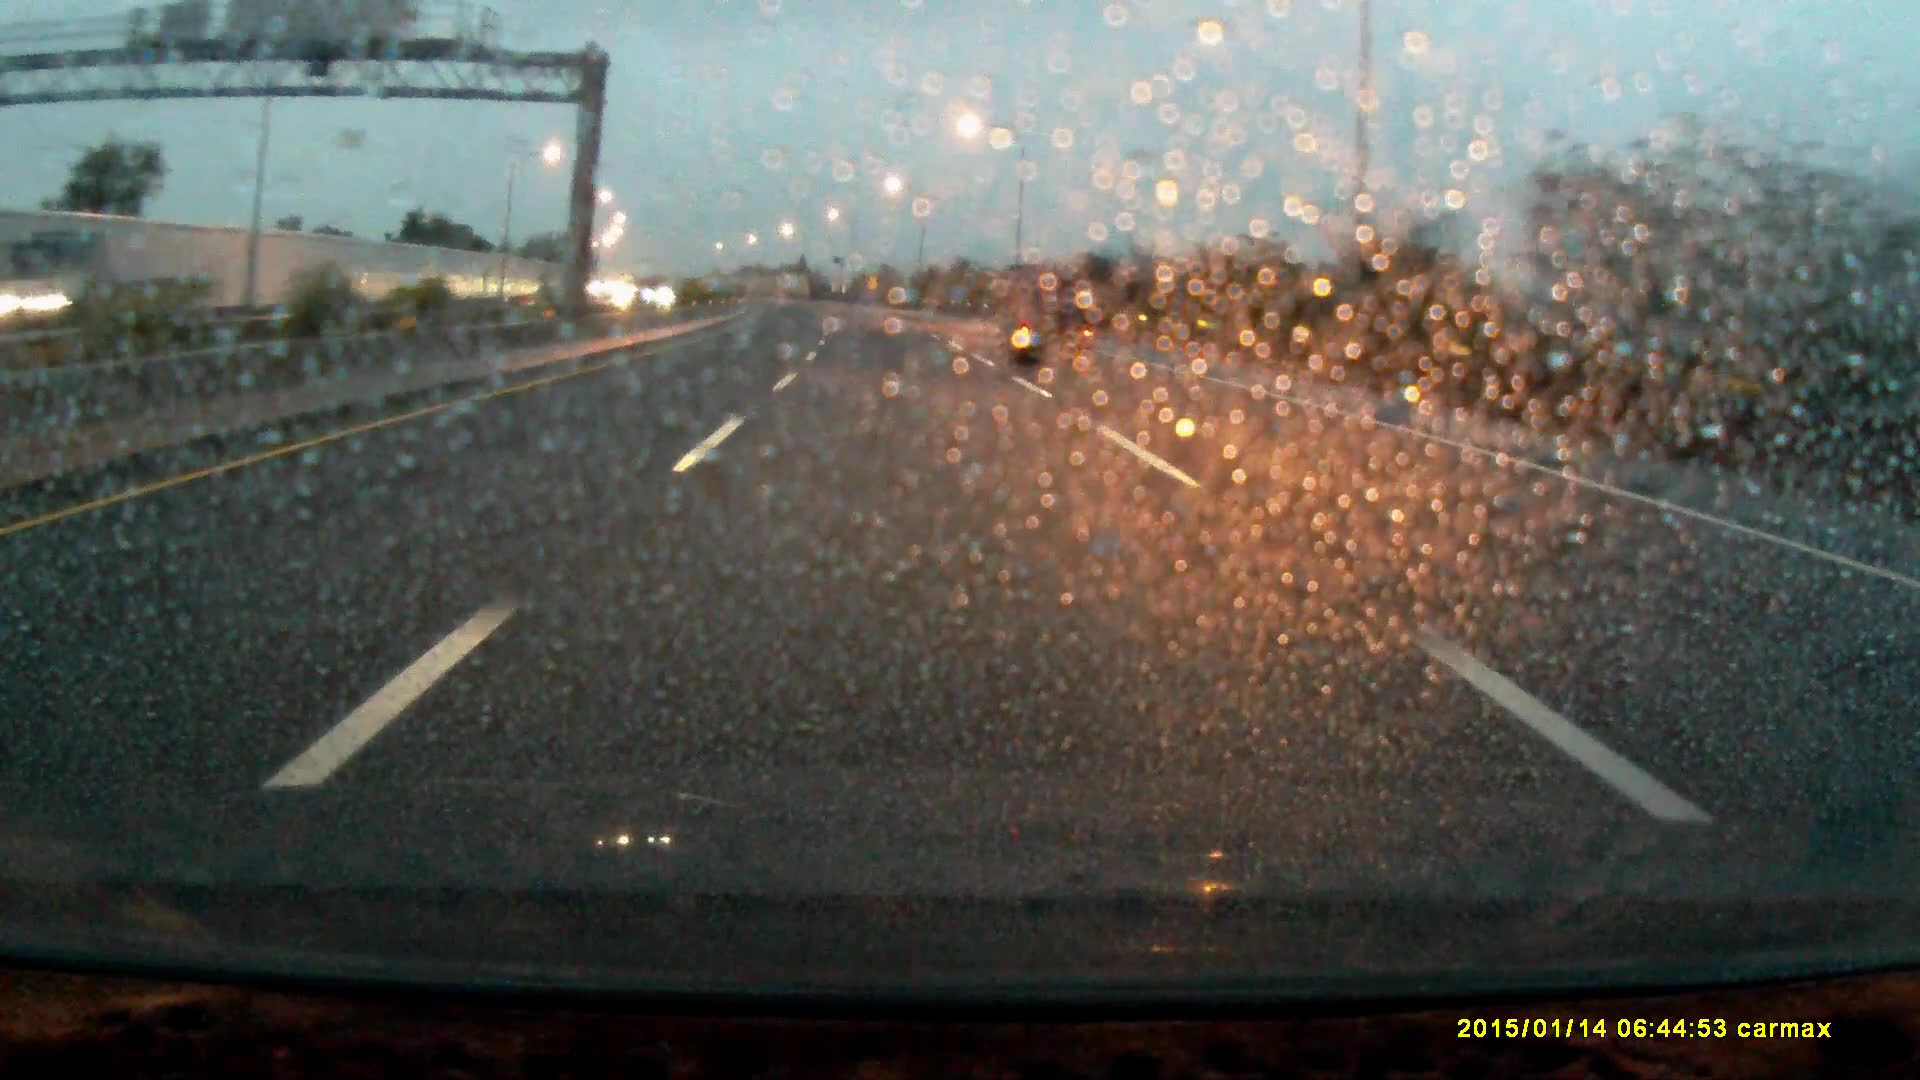vehicle: (33, 222, 218, 326), (1007, 276, 1095, 368)
